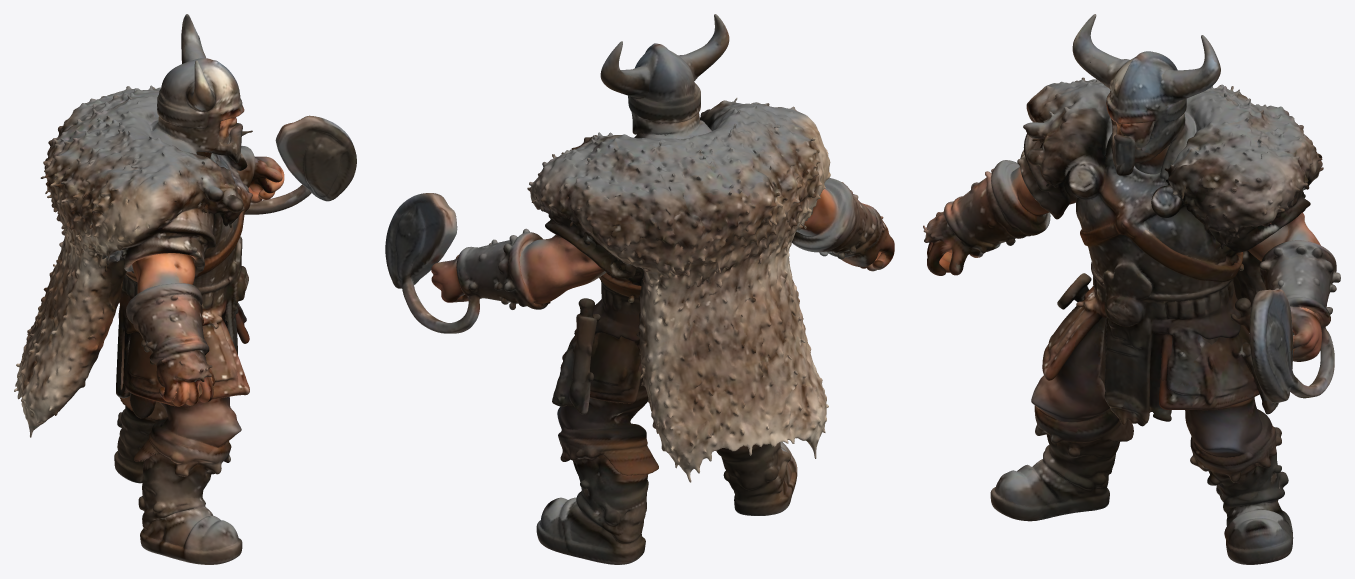
The model's file is wiking.glb.
3 views of the same model, side by side, from view 1: azimuth 30°, elevation 25°; view 2: azimuth 150°, elevation 25°; view 3: azimuth 270°, elevation 25° (orthographic). The views are drawn at different scales.
Parts seen in each view (by area): view 1: tripo_node_9e62fc04-8502-44ac-8a04-95358f3793cc; view 2: tripo_node_9e62fc04-8502-44ac-8a04-95358f3793cc; view 3: tripo_node_9e62fc04-8502-44ac-8a04-95358f3793cc.
Part boxes in pixels (x1,y1,x2,y2): tripo_node_9e62fc04-8502-44ac-8a04-95358f3793cc: (14, 14, 356, 564); tripo_node_9e62fc04-8502-44ac-8a04-95358f3793cc: (385, 14, 894, 564); tripo_node_9e62fc04-8502-44ac-8a04-95358f3793cc: (923, 14, 1340, 564).
Size of the model in its own units: 0.8326 by 0.9999 by 0.7443.
1 material, 1 textured.
